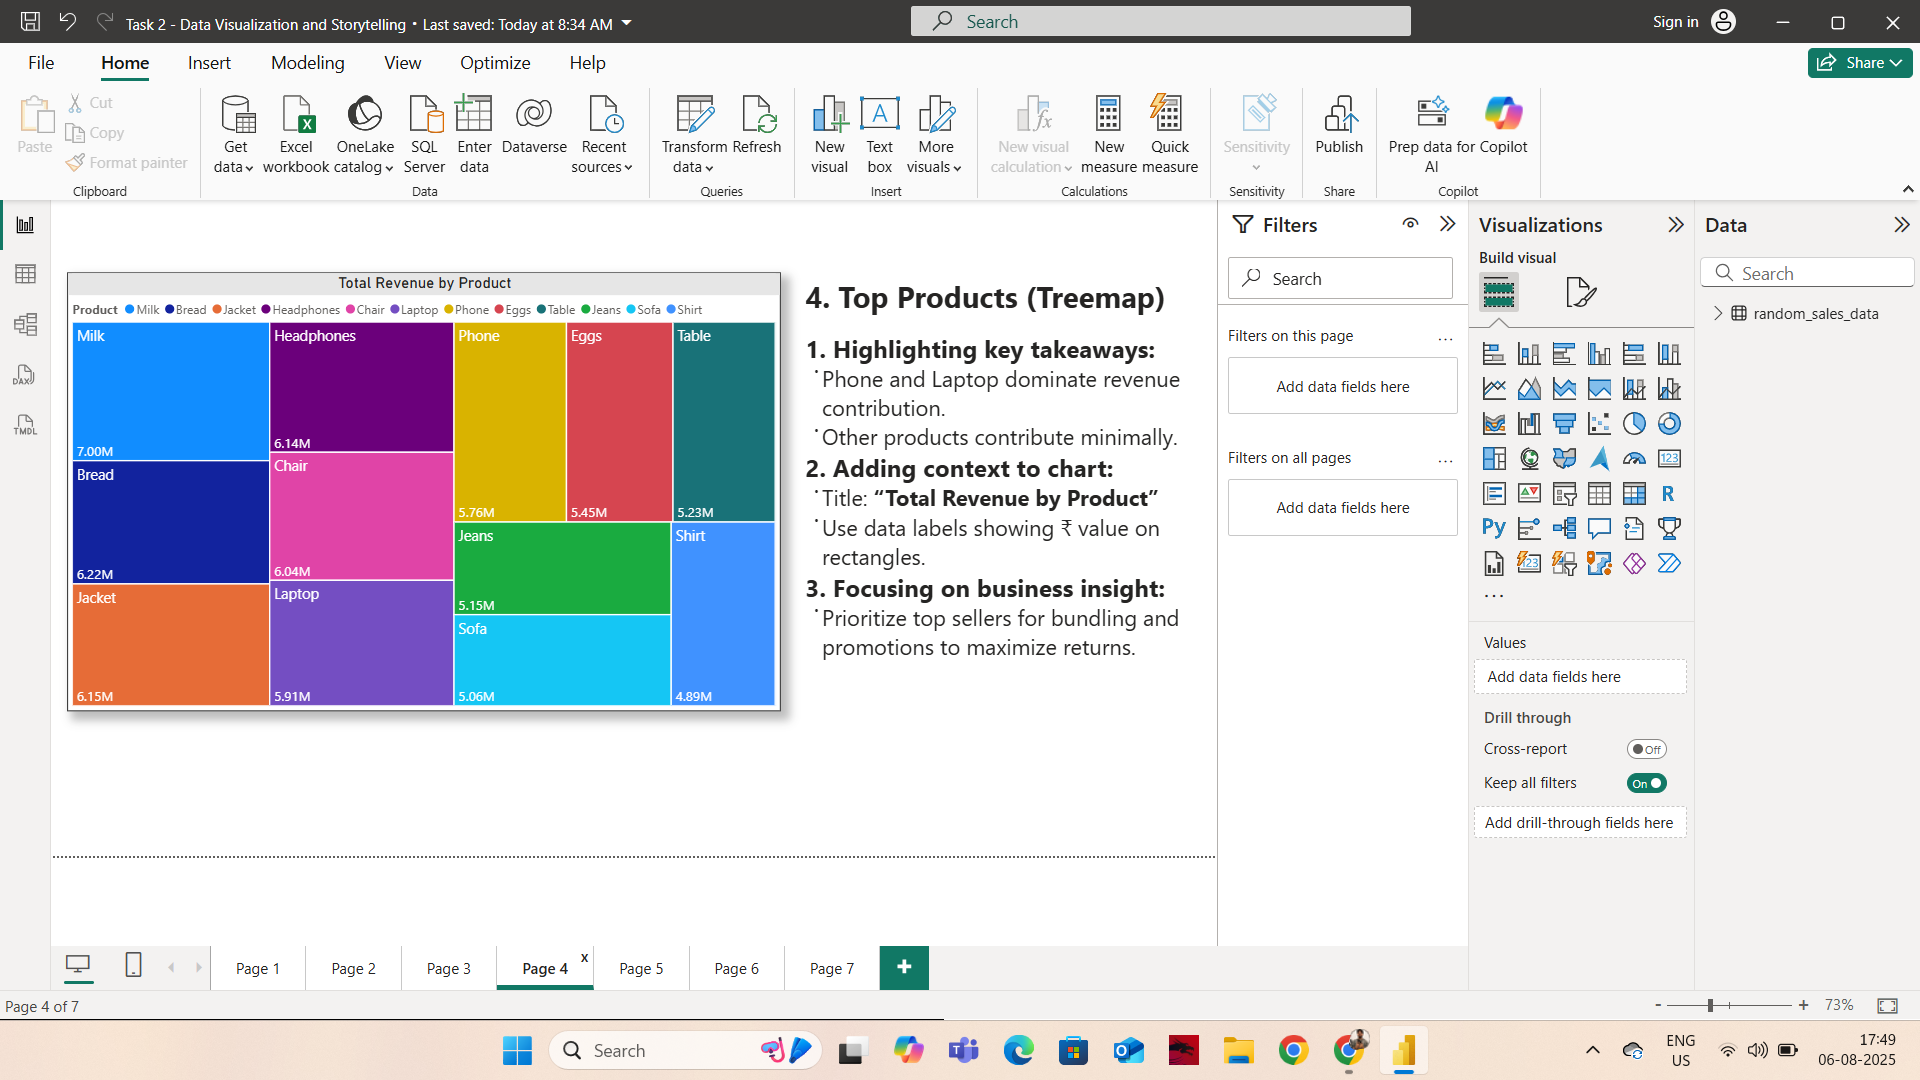

Layout of this report page (visuals, bound fields, positions):
{"tool":"powerbi","page":{"name":"Page 4","canvas":[1280,720],"ordinal":3},"visuals":[{"type":"textbox","box":[1060.7,0,157.8,384.2],"z":0},{"type":"treemap","fields":{"Values":["random_sales_data.Total Revenue"],"Group":["random_sales_data.Product"]},"box":[17.8,79.6,783.5,481.6],"z":1000},{"type":"textbox","box":[823.3,79.6,437.7,481.6],"z":2000}]}

Visuals, with their boxes on the page's 1280x720 design canvas (x1, y1, x2, y2). These are canvas units, not pixel positions in the 1920x1080 screenshot, which may show the page scaled, cropped or inside an application window:
textbox: Rect(1061, 0, 1218, 384)
treemap - random_sales_data.Total Revenue x random_sales_data.Product: Rect(18, 80, 801, 561)
textbox: Rect(823, 80, 1261, 561)
